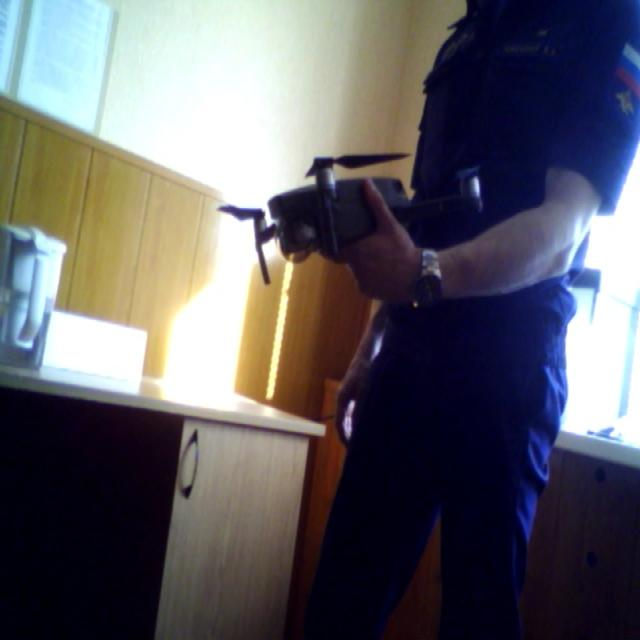drone: (218, 148, 520, 284)
